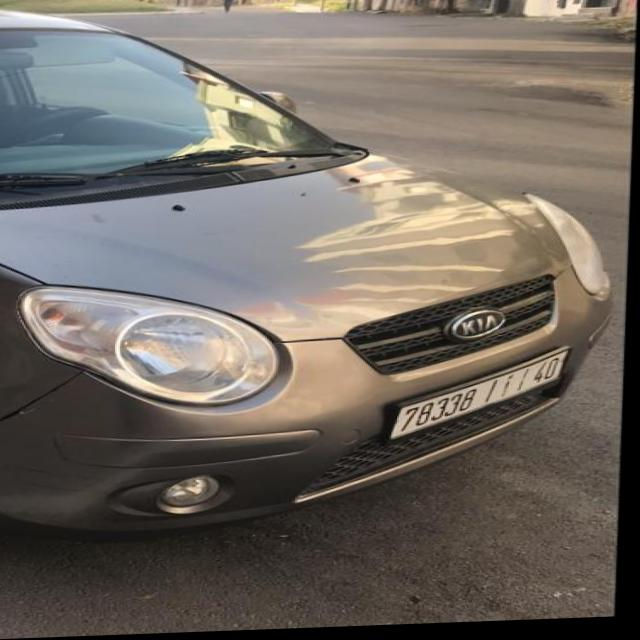License-Plate: (394, 354, 572, 441)
